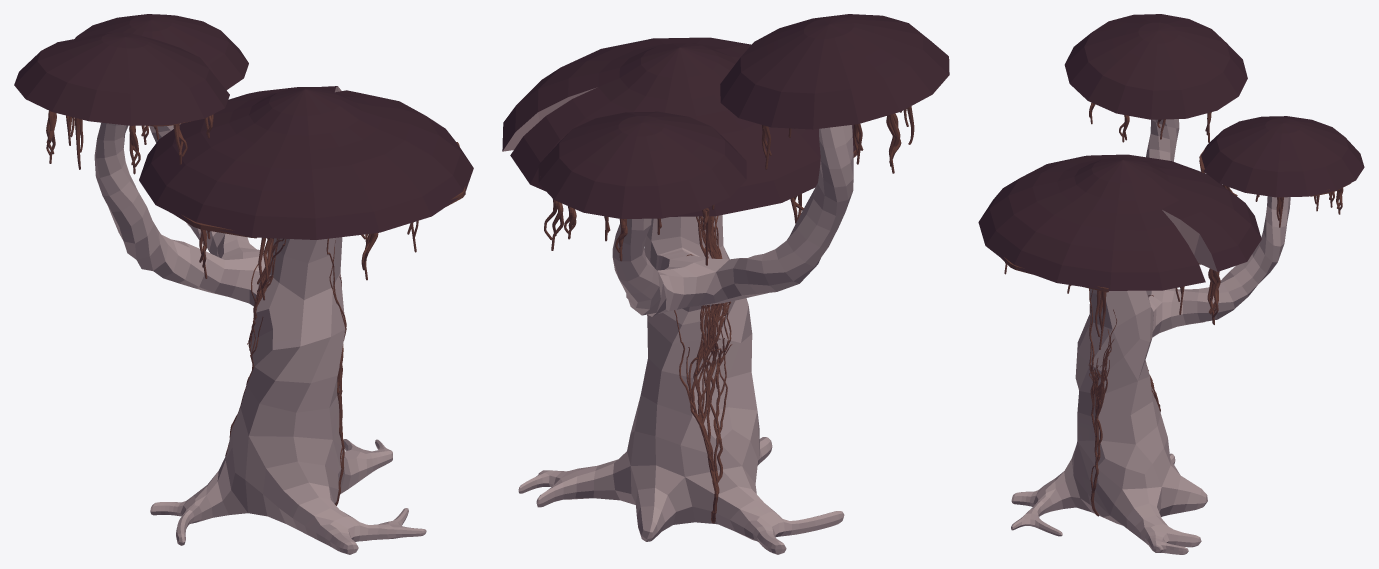
Rendered from meshes_tree05_tall.glb.
The picture shows the model from 3 angles, left to right: view 1: azimuth 30°, elevation 25°; view 2: azimuth 150°, elevation 25°; view 3: azimuth 270°, elevation 25°; orthographic projection. The views are drawn at different scales.
Parts seen in each view (by area): view 1: mushroomtree05; view 2: mushroomtree05; view 3: mushroomtree05.
Part boxes in pixels (left/top/right/bottom): mushroomtree05: left=14, top=14, right=473, bottom=554; mushroomtree05: left=502, top=14, right=949, bottom=554; mushroomtree05: left=978, top=14, right=1364, bottom=554.
Bounding box in the file's own units: 54.19 × 64.17 × 53.32.
Materials: 1 (1 with a texture image).
